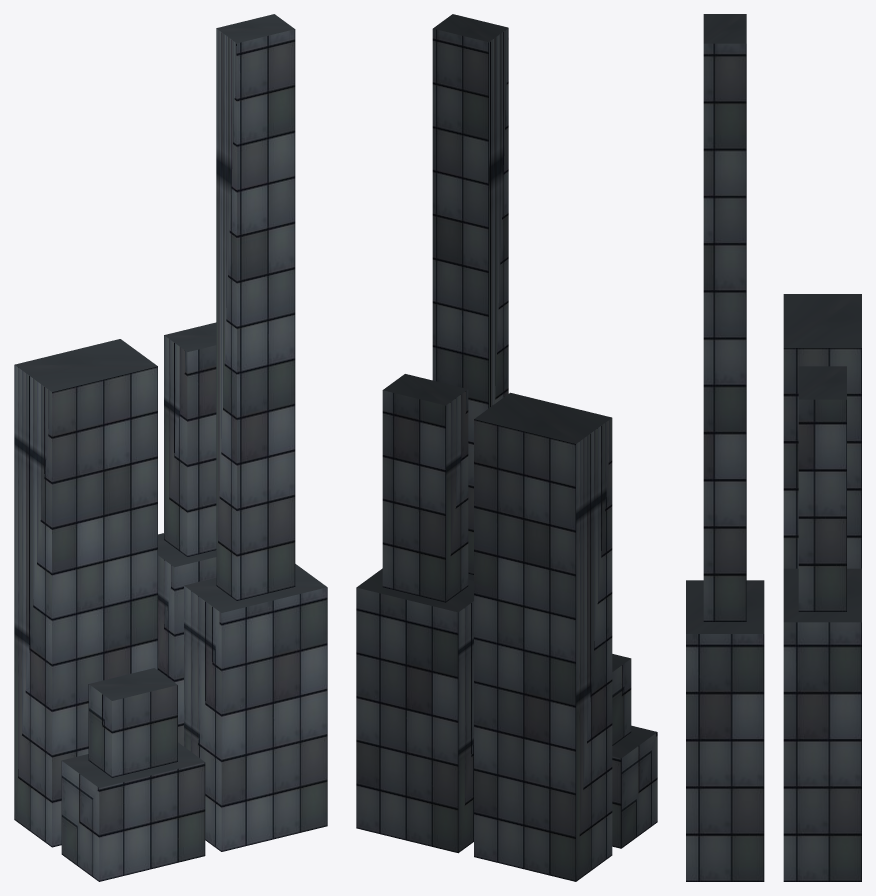
Rendered from city_block_12345_6_03.glb.
3 views of the same model, side by side, from view 1: azimuth 30°, elevation 25°; view 2: azimuth 150°, elevation 25°; view 3: azimuth 270°, elevation 25° (orthographic). The views are drawn at different scales.
Parts seen in each view (by area): view 1: block_03; view 2: block_03; view 3: block_03.
Boxes of the visible parts, <box> form: block_03: <box>14,14,327,881</box>; block_03: <box>356,14,657,881</box>; block_03: <box>686,14,861,881</box>.
Bounding box in the file's own units: 4.2 × 14 × 2.7.
4 materials, 4 textured.
